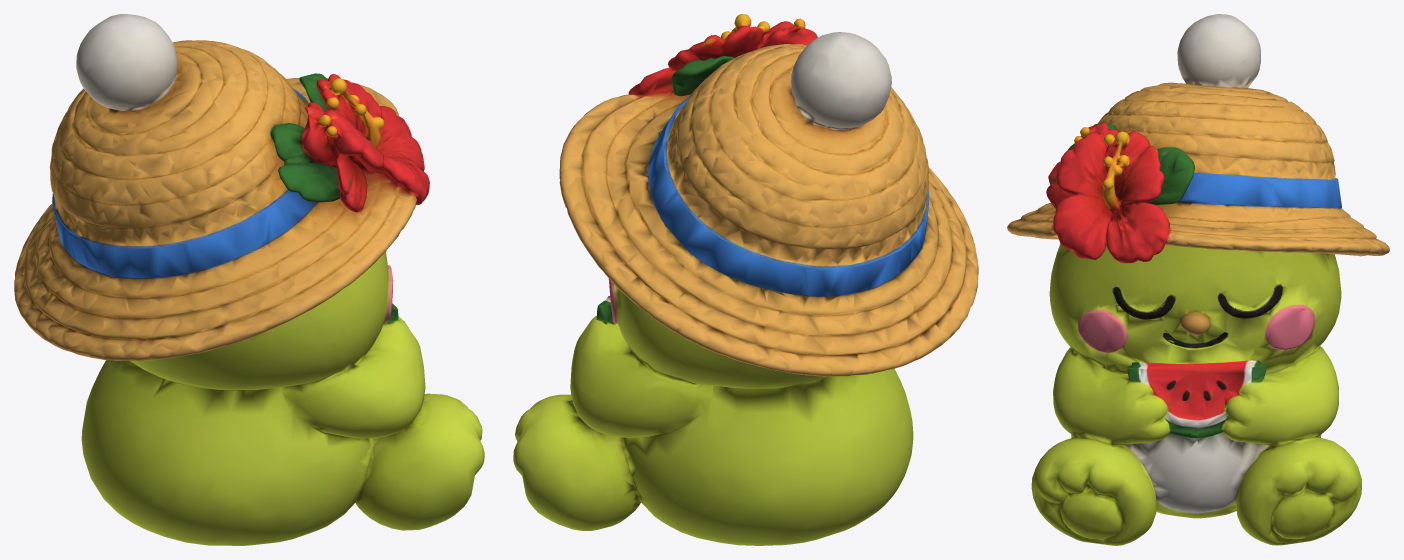
File: summer-plush.glb
3 views of the same model, side by side, from view 1: azimuth 30°, elevation 25°; view 2: azimuth 150°, elevation 25°; view 3: azimuth 270°, elevation 25° (orthographic). The views are drawn at different scales.
Parts seen in each view (by area): view 1: tripo_node_a09f6740-d2d5-4cff-aa59-af7c47b2eaa9; view 2: tripo_node_a09f6740-d2d5-4cff-aa59-af7c47b2eaa9; view 3: tripo_node_a09f6740-d2d5-4cff-aa59-af7c47b2eaa9.
Boxes of the visible parts, <box> form: tripo_node_a09f6740-d2d5-4cff-aa59-af7c47b2eaa9: <box>14,14,484,545</box>; tripo_node_a09f6740-d2d5-4cff-aa59-af7c47b2eaa9: <box>513,14,978,545</box>; tripo_node_a09f6740-d2d5-4cff-aa59-af7c47b2eaa9: <box>1007,14,1389,545</box>.
Bounding box in the file's own units: 0.758 × 0.999 × 0.8049.
Materials: 1 (1 with a texture image).
